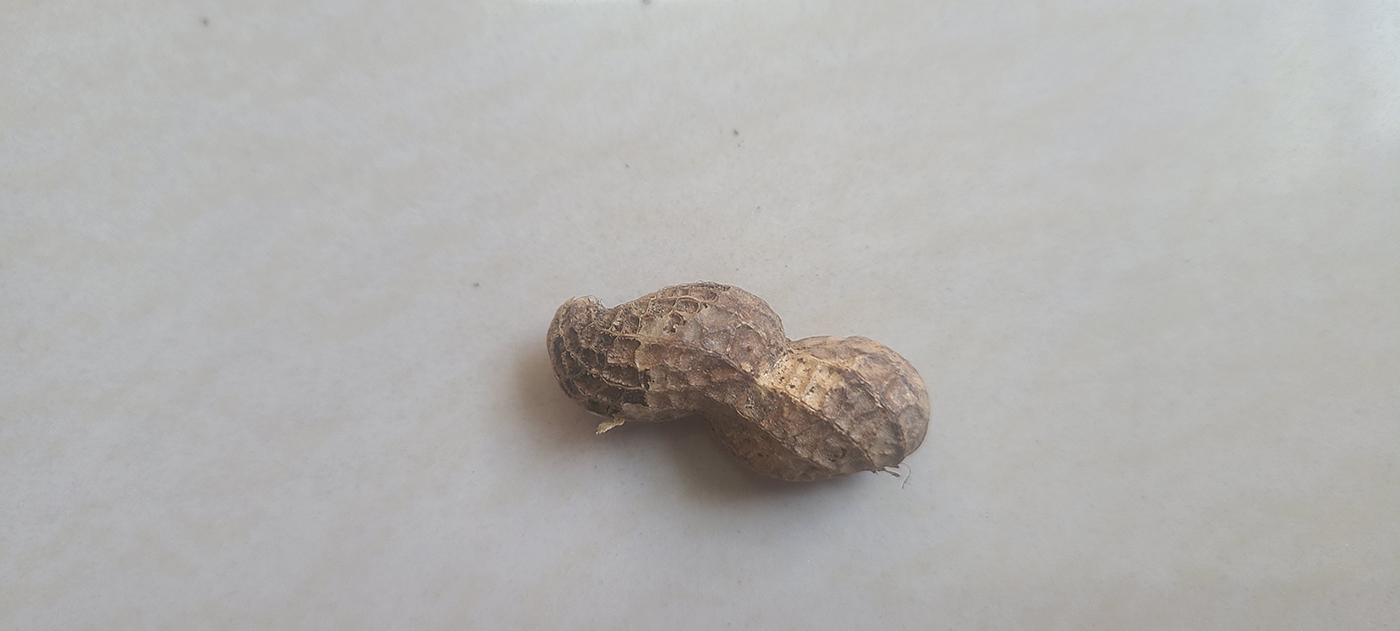l: (539, 276, 935, 479)
